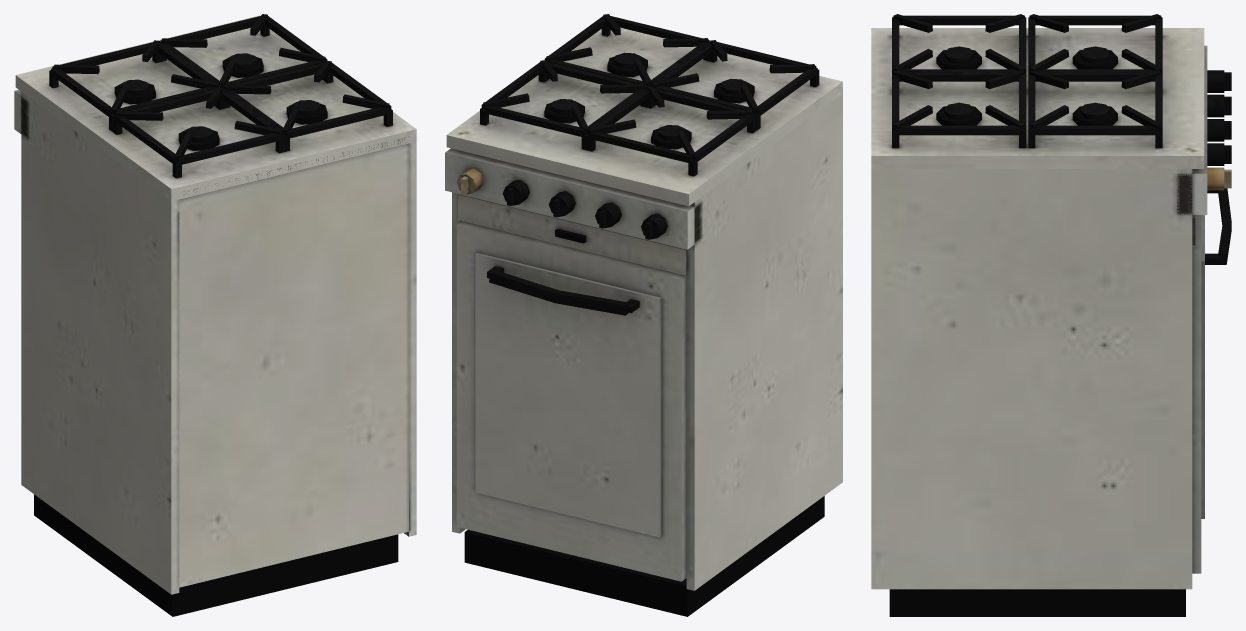
File: stove_gas_lod1_web.glb
3 views of the same model, side by side, from view 1: azimuth 30°, elevation 25°; view 2: azimuth 150°, elevation 25°; view 3: azimuth 270°, elevation 25° (orthographic). The views are drawn at different scales.
Visible parts, largest first — view 1: StoveGas_Body; view 2: StoveGas_Body, Oven_Door_Mesh; view 3: StoveGas_Body, Oven_Door_Mesh, Knob_2_Mesh, Knob_5_Mesh, Knob_1_Mesh, Knob_3_Mesh, Knob_4_Mesh.
Boxes of the visible parts, box(x1,y1,x2,y2) form: StoveGas_Body: box(14, 14, 416, 616); StoveGas_Body: box(445, 14, 842, 616); Oven_Door_Mesh: box(456, 221, 686, 581); StoveGas_Body: box(871, 14, 1207, 616); Oven_Door_Mesh: box(1192, 188, 1231, 573); Knob_2_Mesh: box(1207, 94, 1231, 117); Knob_5_Mesh: box(1207, 167, 1231, 190); Knob_1_Mesh: box(1207, 70, 1231, 92); Knob_3_Mesh: box(1207, 119, 1231, 141); Knob_4_Mesh: box(1207, 143, 1231, 165).
Bounding box in the file's own units: 0.5 × 0.898 × 0.595.
Materials: 1 (1 with a texture image).
